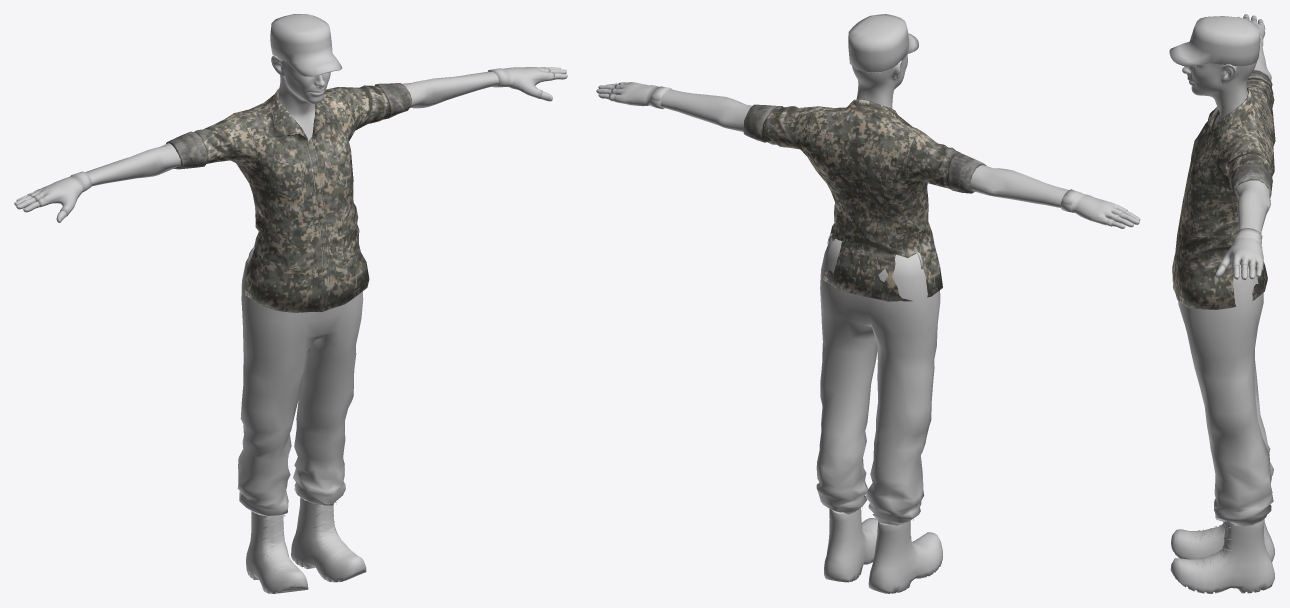
Rendered from skinny male soldier playable.obj.
The picture shows the model from 3 angles, left to right: view 1: azimuth 30°, elevation 25°; view 2: azimuth 150°, elevation 25°; view 3: azimuth 270°, elevation 25°; orthographic projection.
Parts seen in each view (by area): view 1: Tops, Bottoms, Body, Shoes, Hats, Gloves; view 2: Bottoms, Tops, Shoes, Body, Hats, Gloves; view 3: Tops, Bottoms, Shoes, Body, Hats, Gloves.
Part boxes in pixels (<box>): Tops: <box>166,83,411,312</box>; Bottoms: <box>237,246,363,516</box>; Body: <box>14,55,567,222</box>; Shoes: <box>246,497,366,593</box>; Hats: <box>270,14,342,76</box>; Gloves: <box>27,67,554,216</box>; Bottoms: <box>816,233,940,525</box>; Tops: <box>743,99,986,301</box>; Shoes: <box>824,506,942,593</box>; Body: <box>596,54,1140,228</box>; Hats: <box>848,14,918,72</box>; Gloves: <box>608,82,1127,226</box>; Tops: <box>1172,70,1275,309</box>; Bottoms: <box>1178,265,1273,527</box>; Shoes: <box>1170,519,1274,593</box>; Body: <box>1182,14,1271,280</box>; Hats: <box>1169,16,1260,66</box>; Gloves: <box>1218,17,1265,270</box>.
Bounding box in the file's own units: 187 × 181 × 31.45.
